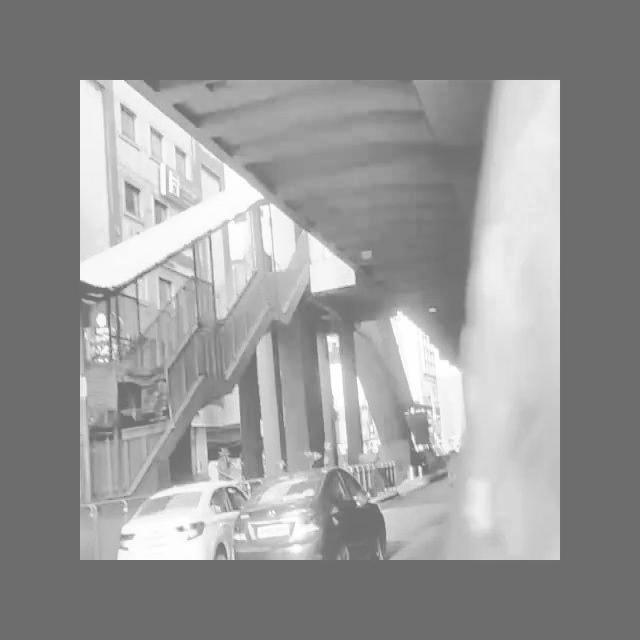Car: (246, 461, 387, 563), (119, 471, 250, 561)
